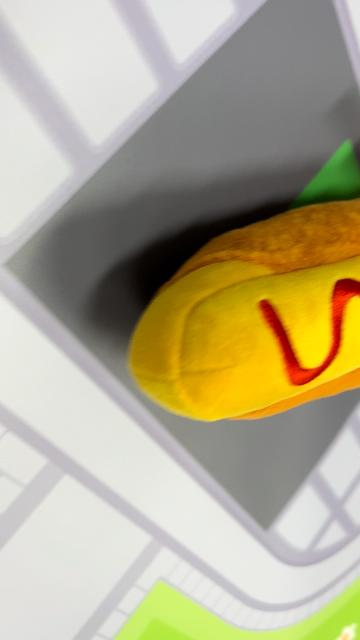hotdog: (126, 196, 358, 424)
